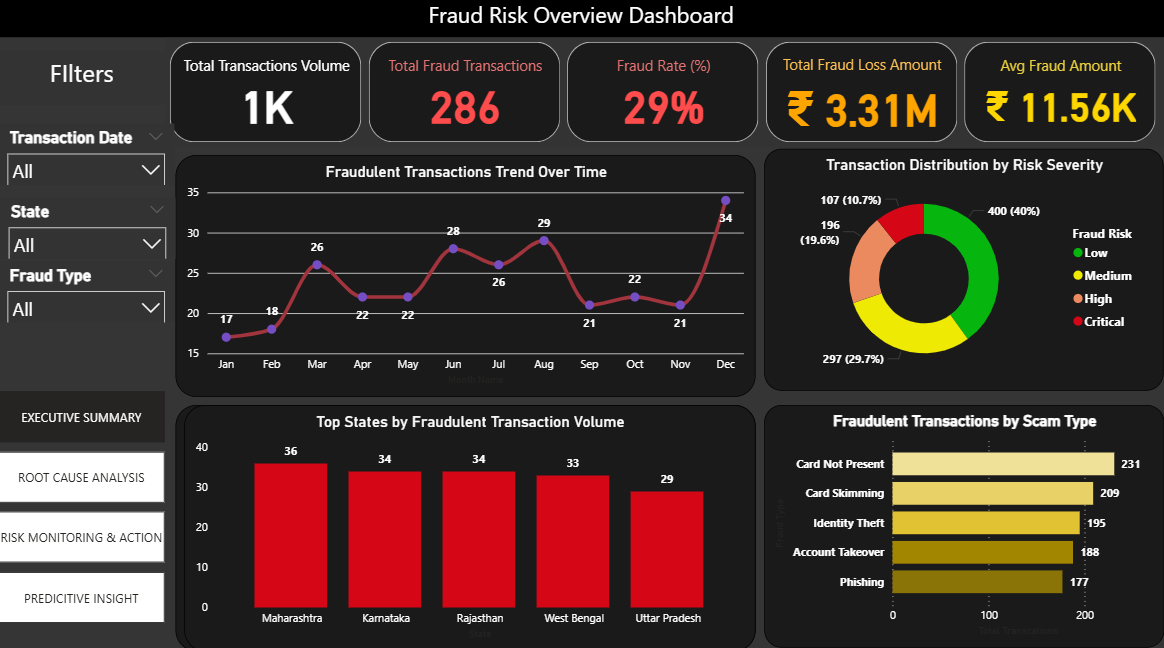

What the dashboard file says about the page in this screenshot:
{"tool":"powerbi","page":{"name":"EXECUTIVE SUMMARY","canvas":[1280,720],"ordinal":0},"visuals":[{"type":"textbox","box":[0,0,1280.3,46.7],"z":0},{"type":"cardVisual","fields":{"Data":["Credit Card Fraud Risk Analysis.Total Transcations","Credit Card Fraud Risk Analysis.Total Fraud Transactions","Credit Card Fraud Risk Analysis.Total Transactions Volume","Credit Card Fraud Risk Analysis.Total Fraud Loss Amount","Credit Card Fraud Risk Analysis.Average Fraud Transaction Value"]},"box":[183.9,46.7,1096.4,120.8],"z":1000},{"type":"lineChart","title":"Fraudulent Transactions Trend Over Time","fields":{"Y":["Credit Card Fraud Risk Analysis.Total Fraud Transactions"],"Category":["Date Table.Month Name"]},"box":[194.3,175.7,637.1,265.7],"z":2000},{"type":"columnChart","title":"Top States by Fraudulent Transaction Volume","fields":{"Category":["Credit Card Fraud Risk Analysis.State"],"Y":["Credit Card Fraud Risk Analysis.Total Fraud Transactions"]},"box":[194.3,450,637.1,270],"z":3000},{"type":"donutChart","title":"Transaction Distribution by Risk Severity","fields":{"Category":["Credit Card Fraud Risk Analysis.Fraud Risk"],"Y":["Credit Card Fraud Risk Analysis.Total Transcations"]},"box":[841.4,168.6,438.6,265.7],"z":4000},{"type":"slicer","fields":{"Values":["Credit Card Fraud Risk Analysis.Transaction Date.Variation.Date Hierarchy.Month"]},"box":[0,141.3,193.5,67.2],"z":5000},{"type":"textbox","box":[0,61.7,183.9,59],"z":6000},{"type":"slicer","fields":{"Values":["Credit Card Fraud Risk Analysis.State"]},"box":[1.4,222.3,193.5,67.2],"z":7000},{"type":"slicer","fields":{"Values":["Credit Card Fraud Risk Analysis.Fraud Type"]},"box":[0,292.3,193.5,67.2],"z":8000},{"type":"columnChart","title":"Top States by Fraudulent Transaction Volume","fields":{"Category":["Credit Card Fraud Risk Analysis.State"],"Y":["Credit Card Fraud Risk Analysis.Total Fraud Transactions"]},"box":[204.5,450.1,627.1,270.3],"z":9000},{"type":"clusteredBarChart","title":"Fraudulent Transactions by Scam Type","fields":{"Category":["Credit Card Fraud Risk Analysis.Fraud Type"],"Y":["Credit Card Fraud Risk Analysis.Total Transcations"]},"box":[841.2,450.1,439.1,266.2],"z":10000},{"type":"pageNavigator","box":[0,435,183.9,255.2],"z":11000}]}

Visuals, with their boxes in screenshot pixels (x1, y1, x2, y2), scaled from the page's 1280x720 canvas onto the 1164x648 screenshot:
textbox: pyautogui.locateOnScreen(0, 0, 1163, 42)
cardVisual - Credit Card Fraud Risk Analysis.Total Transcations x Credit Card Fraud Risk Analysis.Total Fraud Transactions: pyautogui.locateOnScreen(167, 42, 1163, 151)
"Fraudulent Transactions Trend Over Time" lineChart: pyautogui.locateOnScreen(177, 158, 756, 397)
"Top States by Fraudulent Transaction Volume" columnChart: pyautogui.locateOnScreen(177, 405, 756, 647)
"Transaction Distribution by Risk Severity" donutChart: pyautogui.locateOnScreen(765, 152, 1163, 391)
slicer - Credit Card Fraud Risk Analysis.Transaction Date.Variation.Date Hierarchy.Month: pyautogui.locateOnScreen(0, 127, 176, 188)
textbox: pyautogui.locateOnScreen(0, 56, 167, 109)
slicer - Credit Card Fraud Risk Analysis.State: pyautogui.locateOnScreen(1, 200, 177, 261)
slicer - Credit Card Fraud Risk Analysis.Fraud Type: pyautogui.locateOnScreen(0, 263, 176, 324)
"Top States by Fraudulent Transaction Volume" columnChart: pyautogui.locateOnScreen(186, 405, 756, 647)
"Fraudulent Transactions by Scam Type" clusteredBarChart: pyautogui.locateOnScreen(765, 405, 1163, 645)
pageNavigator: pyautogui.locateOnScreen(0, 392, 167, 621)
